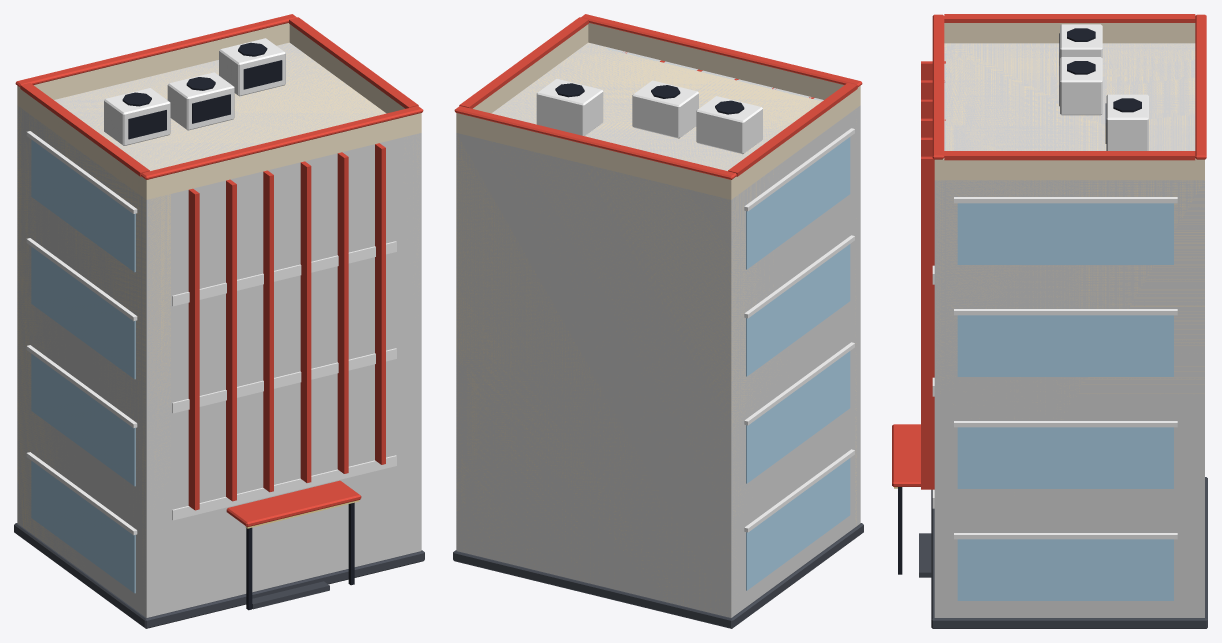
The model's file is office-block.glb.
3 views of the same model, side by side, from view 1: azimuth 30°, elevation 25°; view 2: azimuth 150°, elevation 25°; view 3: azimuth 270°, elevation 25° (orthographic). The views are drawn at different scales.
Visible parts, largest first — view 1: COL_body, office-block; view 2: COL_body, office-block; view 3: office-block, COL_body.
Boxes of the visible parts, <box> form: COL_body: <box>17,42,421,617</box>; office-block: <box>14,14,424,628</box>; COL_body: <box>456,43,860,617</box>; office-block: <box>453,14,863,628</box>; office-block: <box>892,14,1207,628</box>; COL_body: <box>934,43,1204,617</box>.
Bounding box in the file's own units: 8.84 × 13.85 × 8.18.
